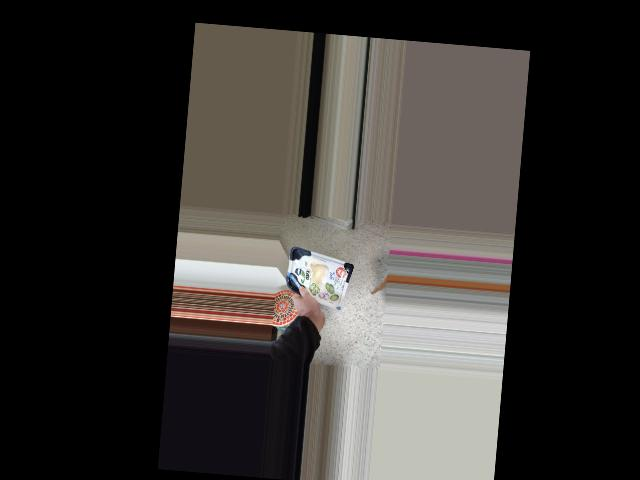cheese: (280, 251, 355, 305)
